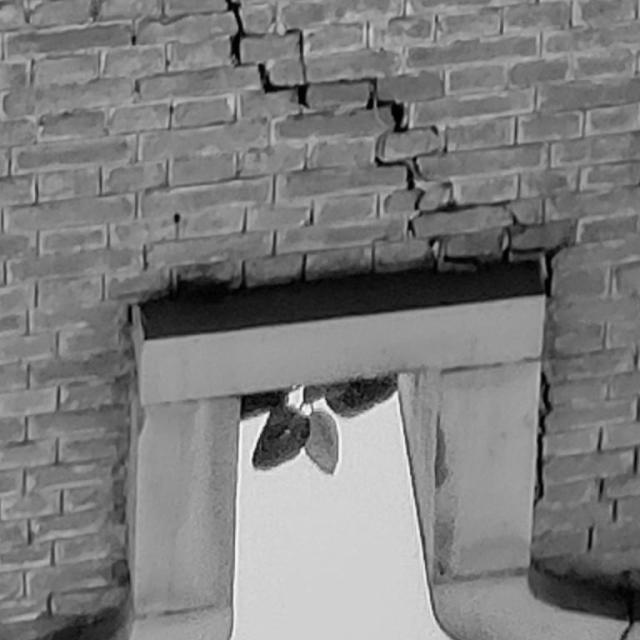crack: (226, 1, 561, 297), (534, 371, 552, 509)
